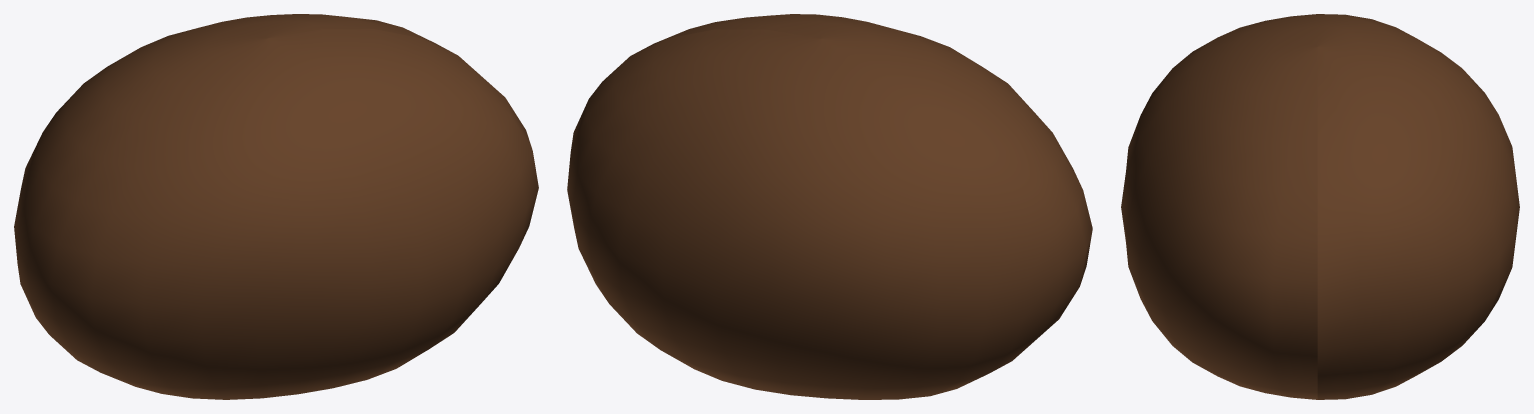
The model's file is guti_tamarind_seed.glb.
3 renders of one model, left to right at view 1: azimuth 30°, elevation 25°; view 2: azimuth 150°, elevation 25°; view 3: azimuth 270°, elevation 25°, orthographic. The views are drawn at different scales.
Visible parts, largest first — view 1: guti_tamarind_seed; view 2: guti_tamarind_seed; view 3: guti_tamarind_seed.
Part boxes in pixels (x1=…): guti_tamarind_seed: x1=14, y1=14, x2=538, y2=399; guti_tamarind_seed: x1=567, y1=14, x2=1092, y2=399; guti_tamarind_seed: x1=1121, y1=14, x2=1519, y2=399.
Bounding box in the file's own units: 0.025 × 0.015 × 0.019.
